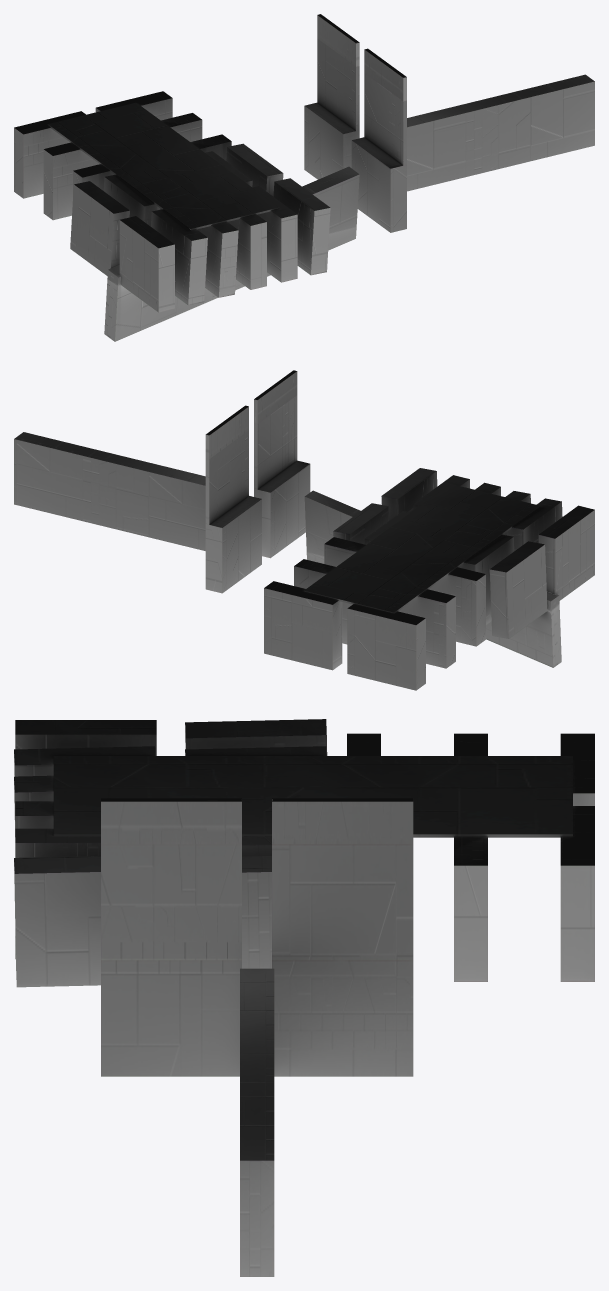
File: 0b_far.glb
The picture shows the model from 3 angles, top to bottom: view 1: azimuth 30°, elevation 25°; view 2: azimuth 150°, elevation 25°; view 3: azimuth 270°, elevation 25°; orthographic projection. The views are drawn at different scales.
Parts seen in each view (by area): view 1: Plane.005_tcollider.013; view 2: Plane.005_tcollider.013; view 3: Plane.005_tcollider.013.
Boxes of the visible parts, x1,y1,x2,y2 form: Plane.005_tcollider.013: (14, 14, 594, 341); Plane.005_tcollider.013: (14, 370, 594, 690); Plane.005_tcollider.013: (14, 719, 594, 1276).
Size of the model in its own units: 49.4 by 19.42 by 27.16.
Materials: 1 (1 with a texture image).
